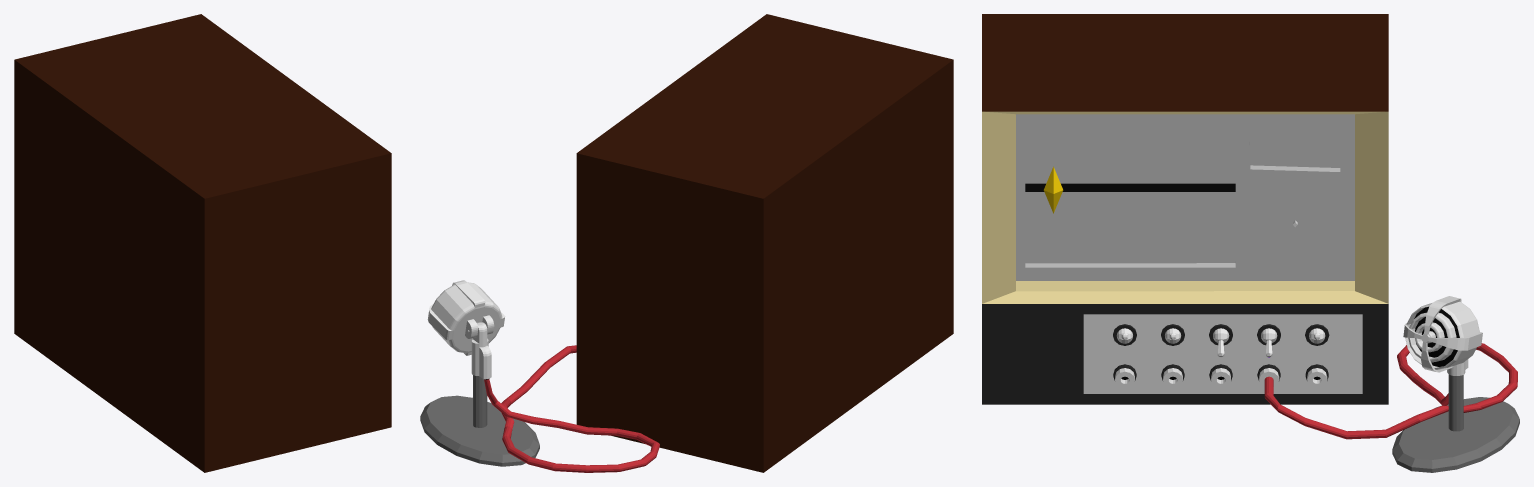
Rendered from Radio.fbx.
3 views of the same model, side by side, from view 1: azimuth 30°, elevation 25°; view 2: azimuth 150°, elevation 25°; view 3: azimuth 270°, elevation 25° (orthographic). The views are drawn at different scales.
Visible parts, largest first — view 1: Radiopriemnick; view 2: Radiopriemnick; view 3: Radiopriemnick.
Part boxes in pixels (x1=…): Radiopriemnick: x1=14, y1=14, x2=391, y2=472; Radiopriemnick: x1=420, y1=14, x2=953, y2=472; Radiopriemnick: x1=982, y1=14, x2=1519, y2=472.
Bounding box in the file's own units: 82 × 67.54 × 112.
